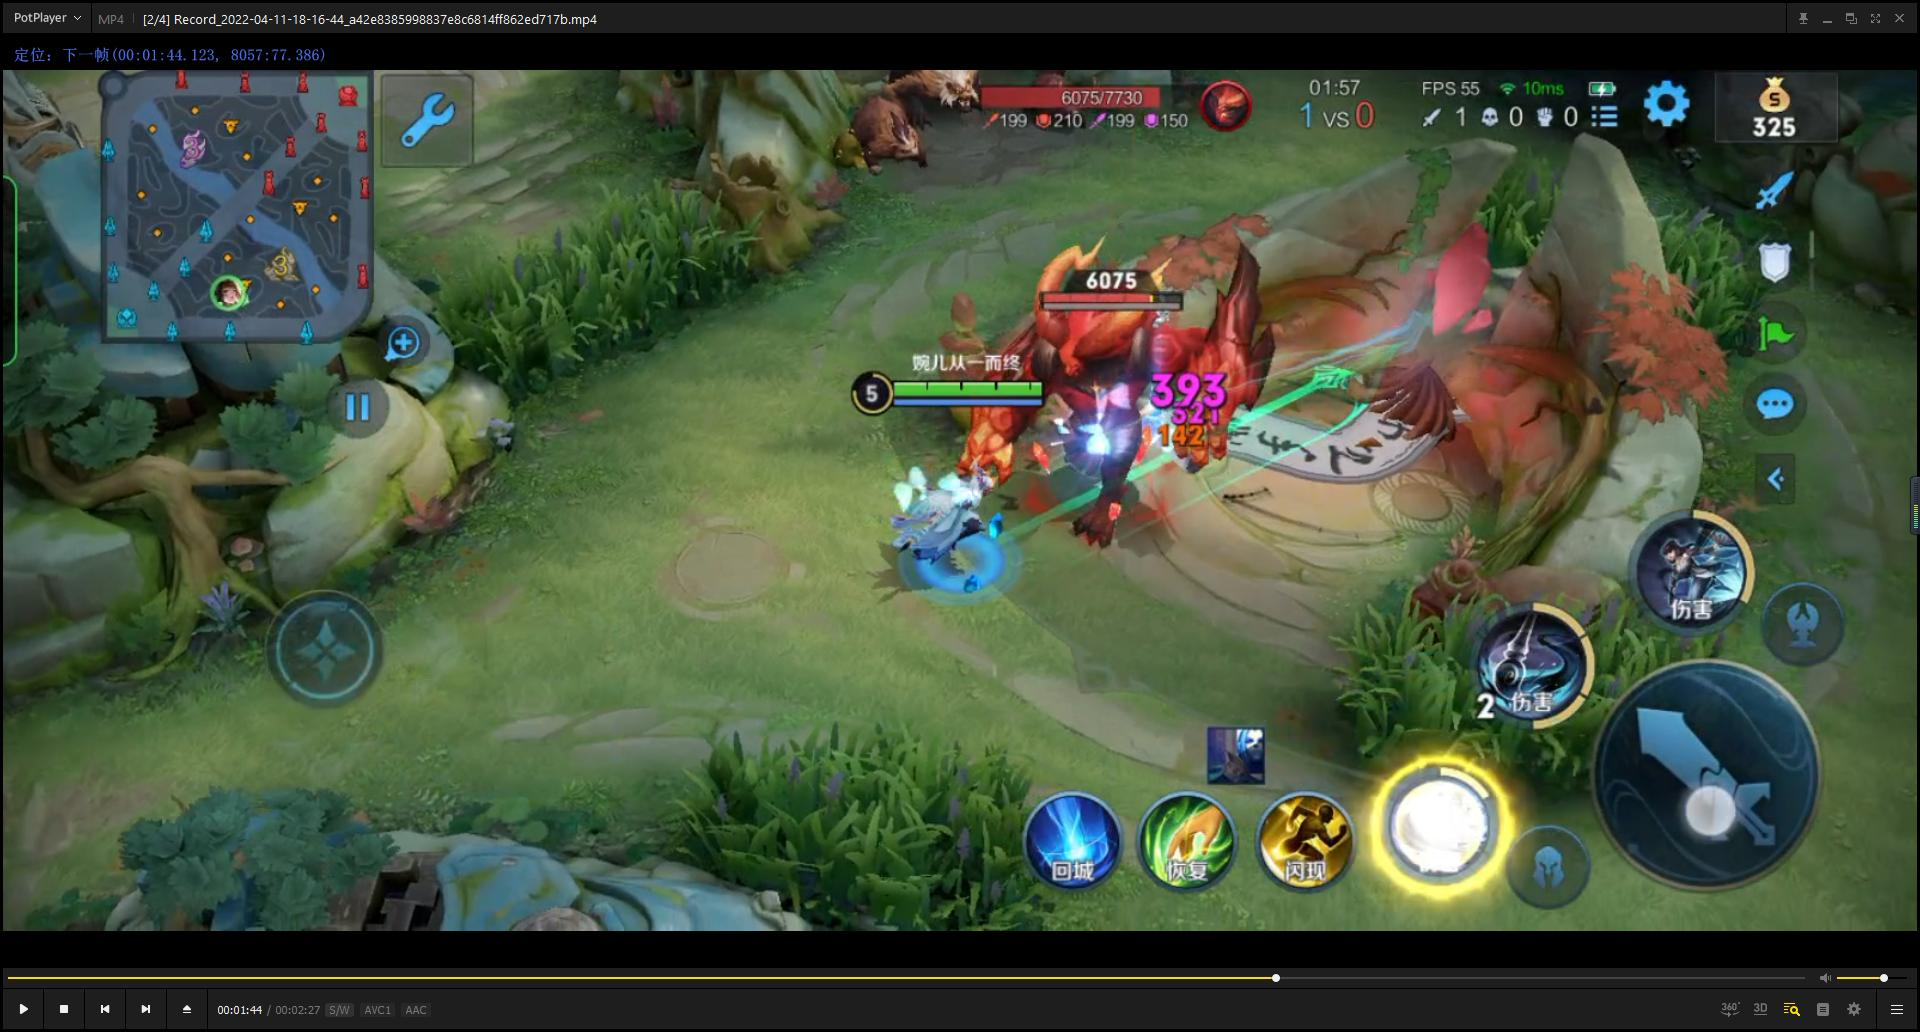Buff: (914, 230, 1291, 569)
Hero: (865, 455, 1064, 620)
Pig: (828, 78, 933, 205), (863, 61, 990, 111)
